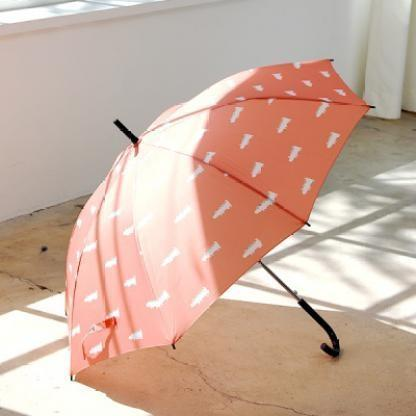Umbrella: (56, 44, 415, 402)
